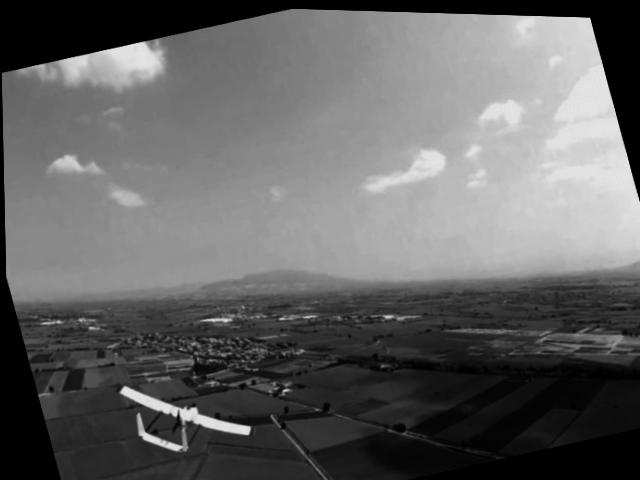hedef: (102, 342, 266, 480)
